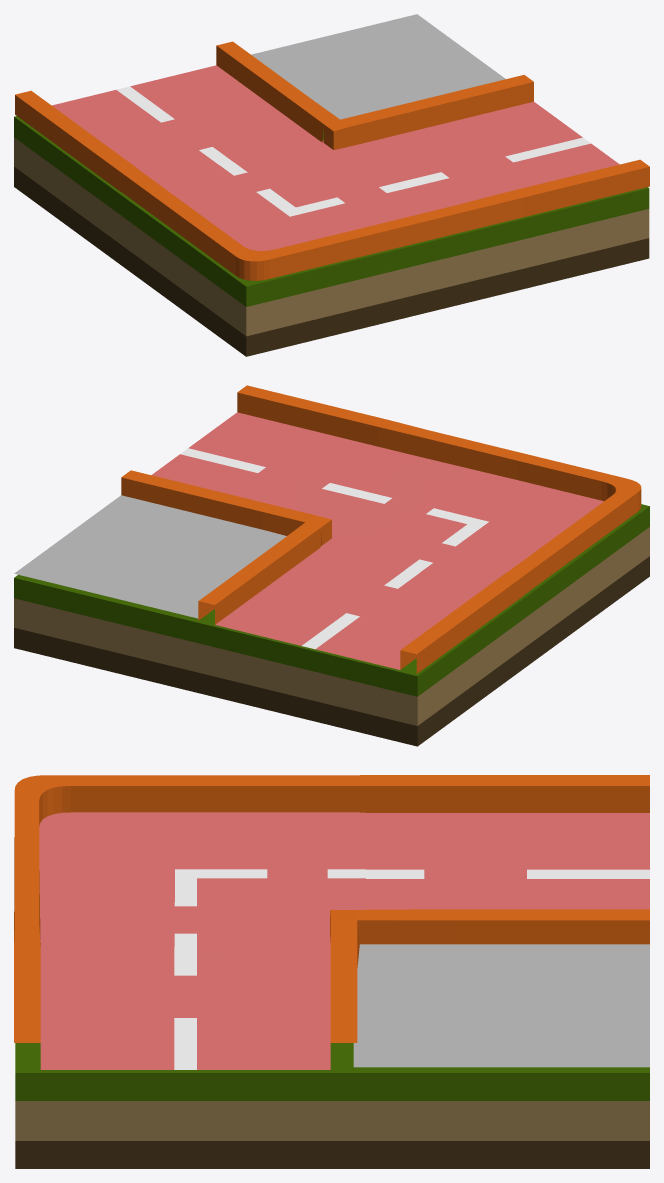
File: rotation bike road_merge feedback.fbx
3 views of the same model, one above another, from view 1: azimuth 30°, elevation 25°; view 2: azimuth 150°, elevation 25°; view 3: azimuth 270°, elevation 25° (orthographic). The views are drawn at different scales.
Visible parts, largest first — view 1: rotation bike road; view 2: rotation bike road; view 3: rotation bike road.
Boxes of the visible parts, x1,y1,x2,y2 form: rotation bike road: [14, 14, 649, 356]; rotation bike road: [14, 385, 649, 746]; rotation bike road: [14, 775, 649, 1168].
Size of the model in its own units: 199 by 43.47 by 199.
